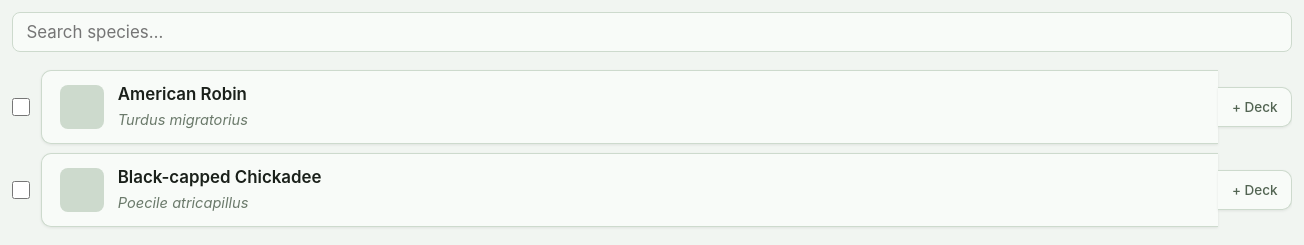
Scenario: Explore page › filters species by common name when searching
In the field with placeholder "Search species…": [652, 32] box 12,12 -> 1292,52, type "robin"
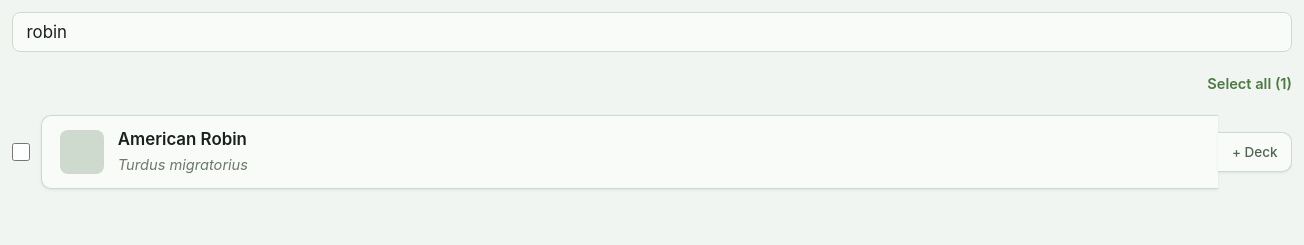
Check: the text "American Robin" is shown, box 118,129 -> 247,149
Check: the link "Black-capped Chickadee" is gone
